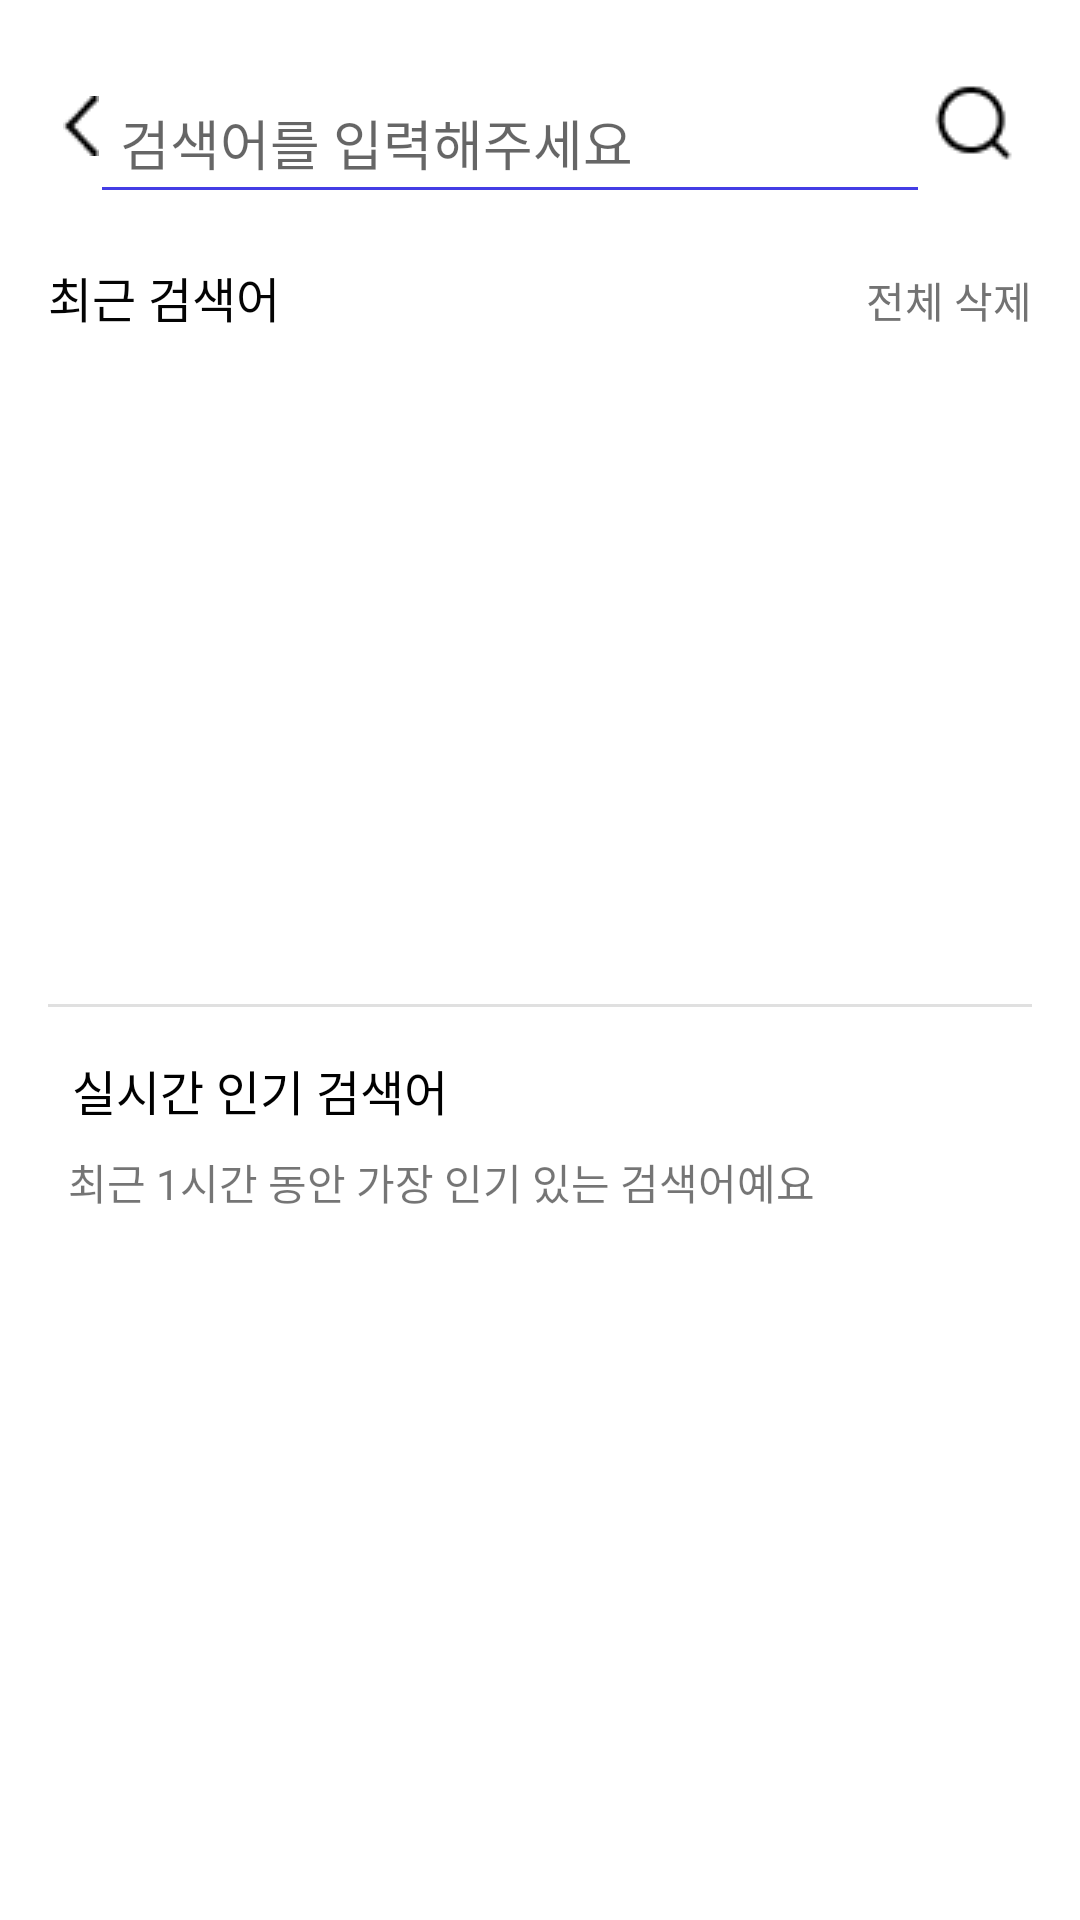

Locate icon controls on the screen. Image size 1080px×1920px, boxes as (x1, y1, x2, y2).
back: (63, 96, 99, 156)
search: (935, 86, 1012, 160)
